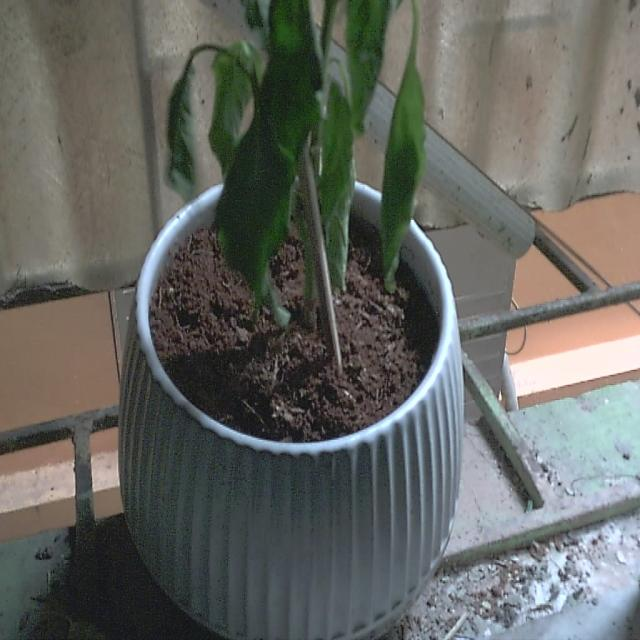Leaf: (204, 96, 296, 306), (378, 53, 430, 301)
